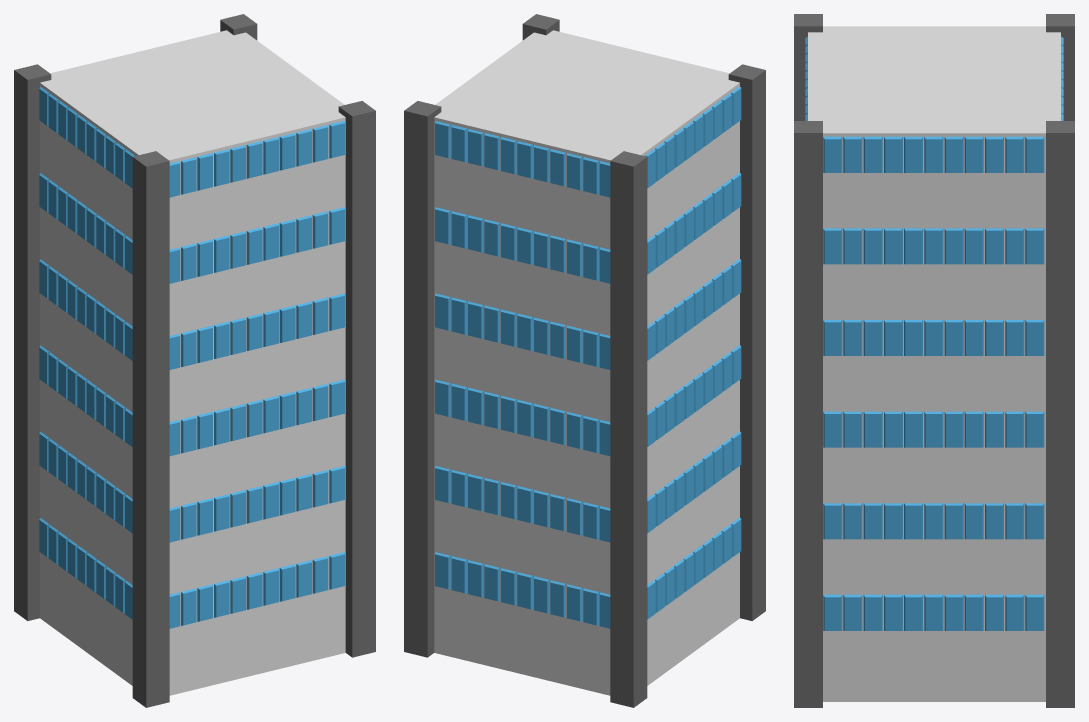
Rendered from building_1.fbx.
The picture shows the model from 3 angles, left to right: view 1: azimuth 30°, elevation 25°; view 2: azimuth 150°, elevation 25°; view 3: azimuth 270°, elevation 25°; orthographic projection. The views are drawn at different scales.
Visible parts, largest first — view 1: Cube; view 2: Cube; view 3: Cube.
Boxes of the visible parts, left/top/right/bottom form: Cube: left=14, top=14, right=375, bottom=707; Cube: left=404, top=14, right=765, bottom=707; Cube: left=794, top=14, right=1074, bottom=707.
Bounding box in the file's own units: 1672 × 3766 × 1666.
